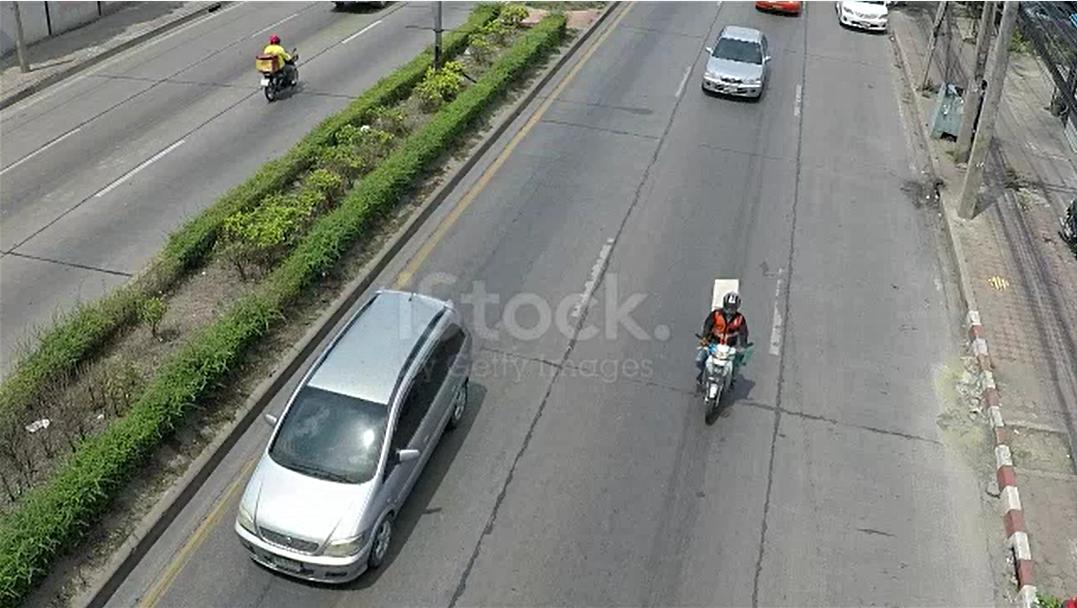car: (221, 235, 492, 608), (693, 13, 783, 138), (832, 0, 900, 44)
motorcycle: (685, 274, 752, 462), (237, 31, 334, 110)
